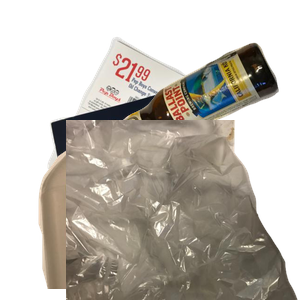glass: (91, 40, 300, 190)
paper: (45, 34, 230, 214)
plastic: (36, 120, 265, 300)
trash: (66, 120, 300, 300)
